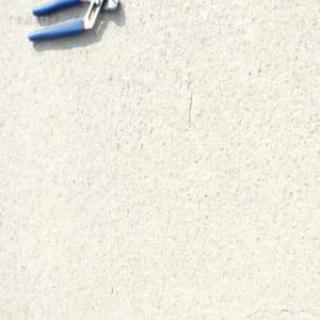Pliertrack_idkeyframe: (26, 0, 121, 45)
